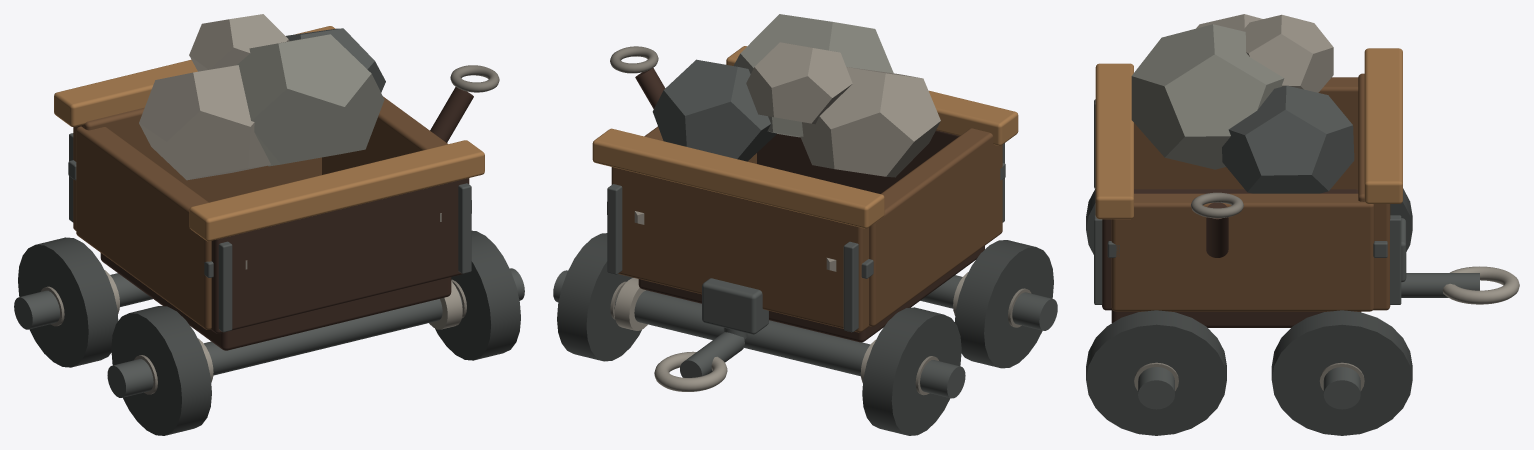
The model's file is extra_mine_cart.glb.
3 views of the same model, side by side, from view 1: azimuth 30°, elevation 25°; view 2: azimuth 150°, elevation 25°; view 3: azimuth 270°, elevation 25° (orthographic).
Parts seen in each view (by area): view 1: wood, stone, metal; view 2: wood, stone, metal; view 3: wood, stone, metal.
Part boxes in pixels (x1,y1,x2,y2): wood: (18,26,520,435); stone: (14,14,524,397); metal: (68,133,471,332); wood: (557,46,1053,435); stone: (553,14,1057,398); metal: (607,143,1005,332); wood: (1086,48,1412,435); stone: (1131,14,1519,409); metal: (1094,99,1401,304).
Size of the model in its own units: 1.3 by 1 by 1.2.
